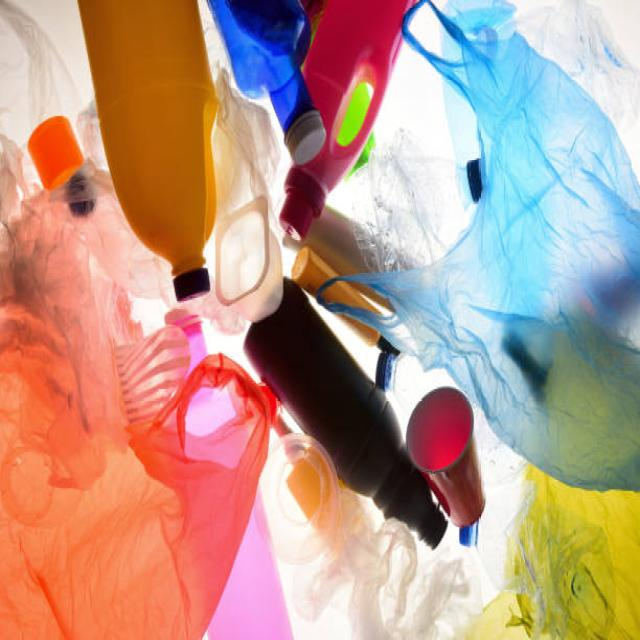plastic: (16, 28, 623, 634), (251, 314, 479, 566), (81, 47, 227, 306), (254, 44, 362, 245)
